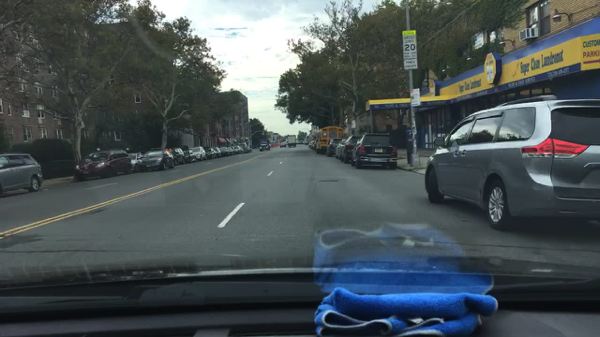bus: (314, 125, 346, 155)
car: (422, 94, 599, 233), (0, 149, 42, 197), (74, 147, 133, 181), (348, 132, 398, 170), (134, 147, 176, 173), (339, 133, 359, 164), (127, 151, 145, 173), (324, 138, 343, 158), (168, 146, 186, 167), (188, 146, 208, 162), (334, 138, 346, 162), (203, 144, 219, 159), (184, 148, 198, 164), (257, 139, 271, 152), (235, 142, 249, 154), (212, 146, 223, 159), (204, 147, 215, 160), (219, 146, 230, 158), (309, 139, 316, 151), (233, 146, 242, 155), (227, 146, 235, 156), (239, 146, 246, 154), (279, 141, 287, 148), (228, 147, 234, 156), (246, 146, 253, 153), (298, 140, 304, 146), (295, 140, 300, 146), (303, 140, 309, 145), (283, 141, 289, 146), (308, 141, 312, 148)
traffic sign: (401, 30, 418, 71), (410, 87, 421, 108), (351, 119, 357, 129)
truck: (286, 133, 297, 148)
